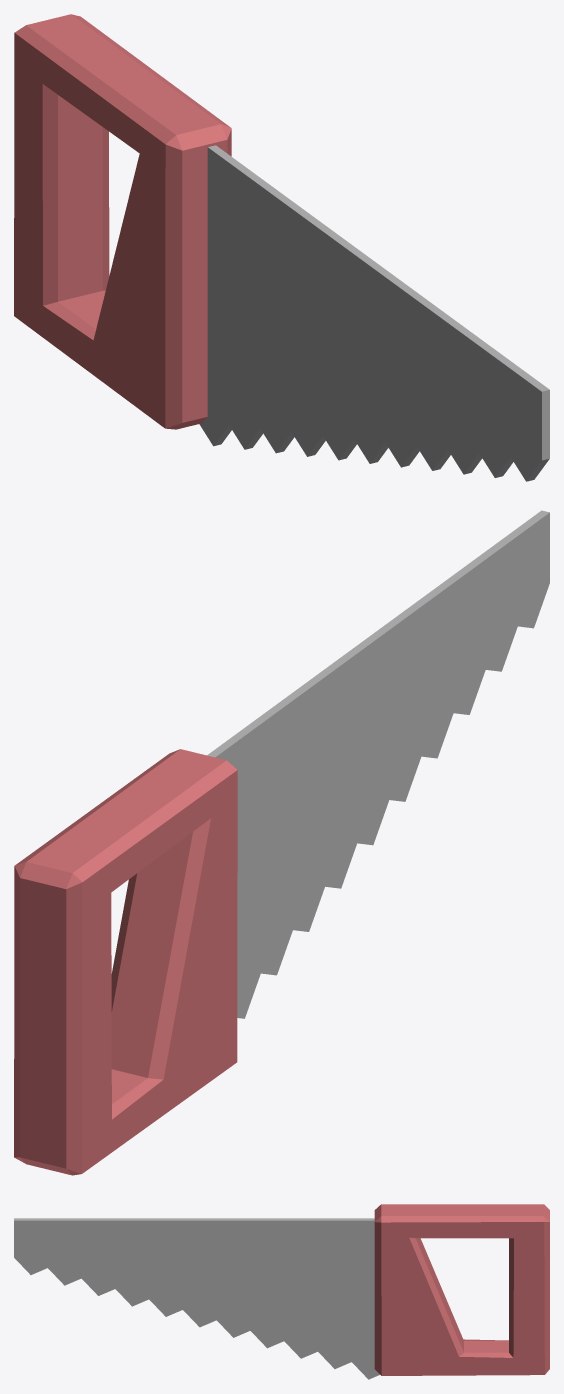
The model's file is Saw.fbx.
The picture shows the model from 3 angles, top to bottom: view 1: azimuth 30°, elevation 25°; view 2: azimuth 150°, elevation 25°; view 3: azimuth 270°, elevation 25°; orthographic projection. The views are drawn at different scales.
Parts seen in each view (by area): view 1: Saw; view 2: Saw; view 3: Saw.
Boxes of the visible parts, bbox=[...] form: Saw: bbox=[14, 14, 549, 481]; Saw: bbox=[14, 510, 549, 1175]; Saw: bbox=[14, 1204, 549, 1379].
Size of the model in its own units: 8.08 by 35.97 by 105.
